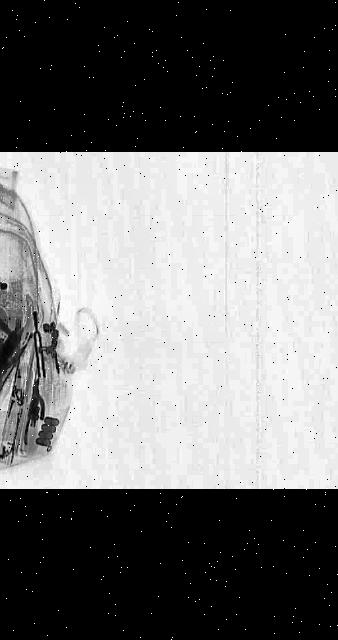Pliers: (0, 339, 46, 411), (28, 377, 49, 419)
